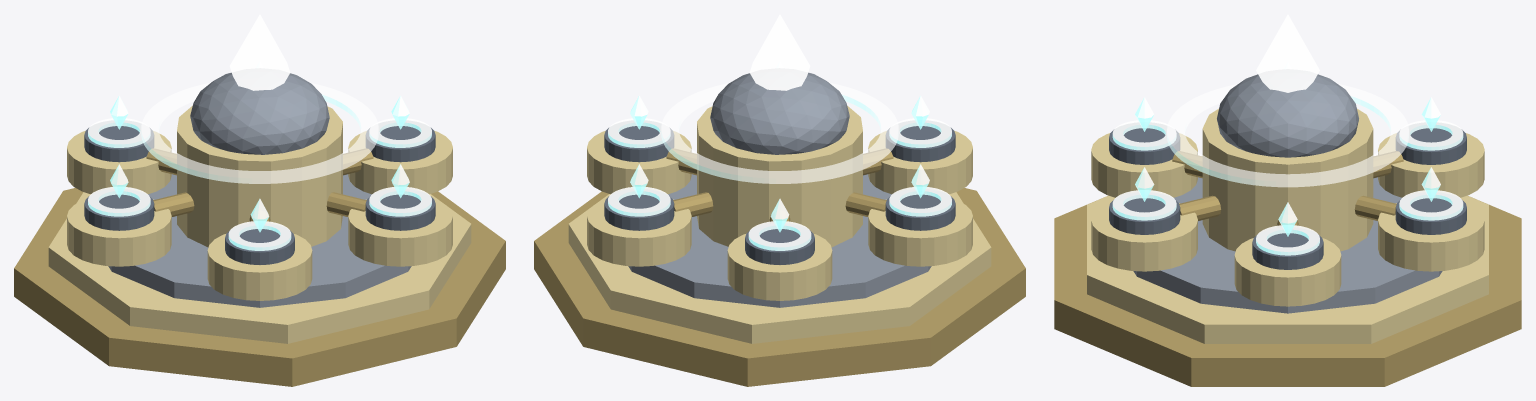
Rendered from helias_cybernetics_core.glb.
3 views of the same model, side by side, from view 1: azimuth 30°, elevation 25°; view 2: azimuth 150°, elevation 25°; view 3: azimuth 270°, elevation 25° (orthographic).
Parts seen in each view (by area): view 1: foundation_000, plinth_001, central_lab_003, floor_002, research_dome_004, analysis_ring_036, research_disc_026, research_disc_031, research_disc_021, research_disc_016, research_disc_006, logic_crystal_005 (+14 smaller); view 2: foundation_000, plinth_001, central_lab_003, floor_002, research_dome_004, analysis_ring_036, research_disc_016, research_disc_021, research_disc_011, research_disc_026, research_disc_006, logic_crystal_005 (+14 smaller); view 3: foundation_000, plinth_001, central_lab_003, floor_002, research_dome_004, analysis_ring_036, research_disc_006, research_disc_031, research_disc_011, research_disc_026, research_disc_016, logic_crystal_005 (+14 smaller).
Part boxes in pixels (bbox=[...]): foundation_000: bbox=[14, 188, 505, 386]; plinth_001: bbox=[48, 192, 471, 343]; central_lab_003: bbox=[177, 105, 342, 247]; floor_002: bbox=[108, 174, 411, 307]; research_dome_004: bbox=[190, 72, 329, 154]; analysis_ring_036: bbox=[141, 82, 378, 183]; research_disc_026: bbox=[207, 234, 312, 300]; research_disc_031: bbox=[348, 199, 452, 266]; research_disc_021: bbox=[67, 199, 171, 266]; research_disc_016: bbox=[67, 131, 171, 194]; research_disc_006: bbox=[348, 131, 452, 194]; logic_crystal_005: bbox=[229, 14, 290, 90]; foundation_000: bbox=[534, 188, 1025, 386]; plinth_001: bbox=[568, 192, 991, 343]; central_lab_003: bbox=[697, 105, 862, 247]; floor_002: bbox=[628, 174, 931, 307]; research_dome_004: bbox=[710, 72, 849, 154]; analysis_ring_036: bbox=[661, 82, 898, 183]; research_disc_016: bbox=[727, 234, 832, 300]; research_disc_021: bbox=[868, 199, 972, 266]; research_disc_011: bbox=[587, 199, 691, 266]; research_disc_026: bbox=[868, 131, 972, 194]; research_disc_006: bbox=[587, 131, 691, 194]; logic_crystal_005: bbox=[749, 14, 810, 90]; foundation_000: bbox=[1054, 197, 1521, 386]; plinth_001: bbox=[1087, 195, 1488, 343]; central_lab_003: bbox=[1202, 108, 1373, 251]; floor_002: bbox=[1133, 177, 1442, 313]; research_dome_004: bbox=[1217, 74, 1358, 157]; analysis_ring_036: bbox=[1167, 84, 1408, 187]; research_disc_006: bbox=[1234, 238, 1341, 306]; research_disc_031: bbox=[1091, 203, 1197, 271]; research_disc_011: bbox=[1378, 203, 1484, 271]; research_disc_026: bbox=[1091, 133, 1197, 197]; research_disc_016: bbox=[1378, 133, 1484, 197]; logic_crystal_005: bbox=[1256, 14, 1319, 92].
Size of the model in its own units: 4 by 2.59 by 4.
